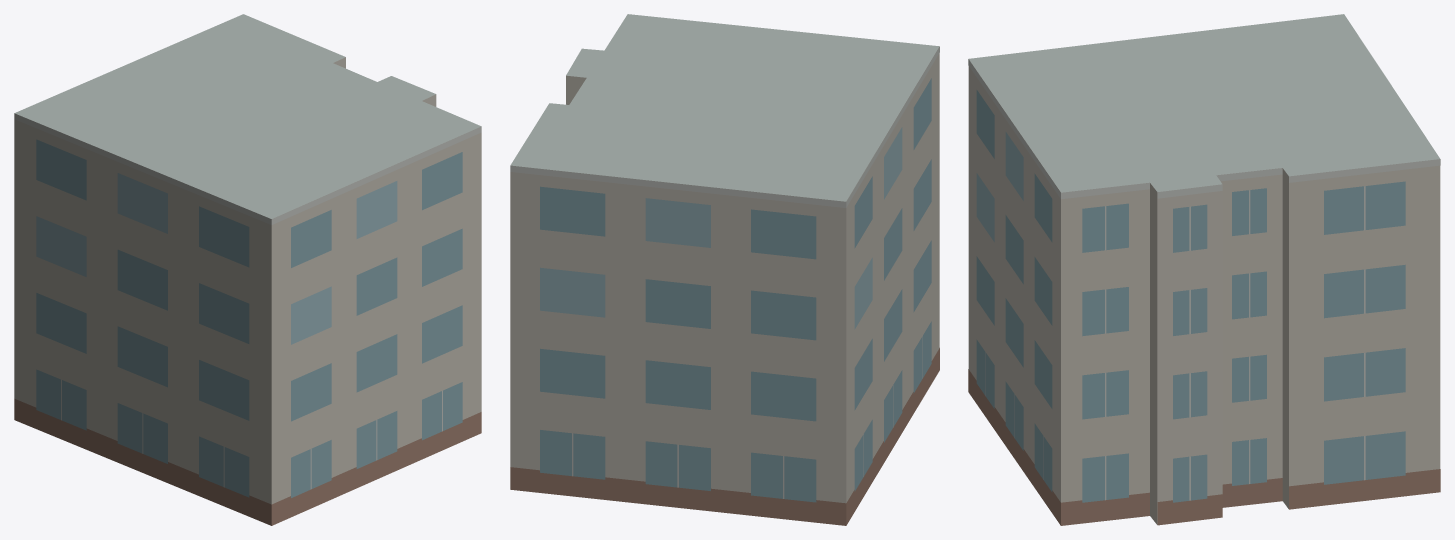
The model's file is survey-upis-32612503.glb.
The picture shows the model from 3 angles, left to right: view 1: azimuth 30°, elevation 25°; view 2: azimuth 150°, elevation 25°; view 3: azimuth 270°, elevation 25°; orthographic projection. The views are drawn at different scales.
Parts seen in each view (by area): view 1: survey-upis-32612503.tmp; view 2: survey-upis-32612503.tmp; view 3: survey-upis-32612503.tmp.
Part boxes in pixels (box(x1,y1,x2,y2)): survey-upis-32612503.tmp: box(14, 14, 481, 525); survey-upis-32612503.tmp: box(510, 14, 939, 525); survey-upis-32612503.tmp: box(968, 14, 1440, 525).
Size of the model in its own units: 14.27 by 12.4 by 15.93.
